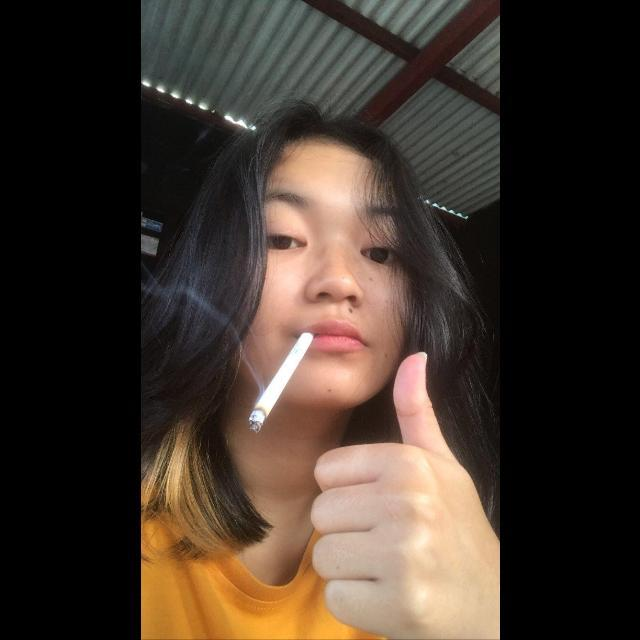rokok: (238, 327, 316, 435)
